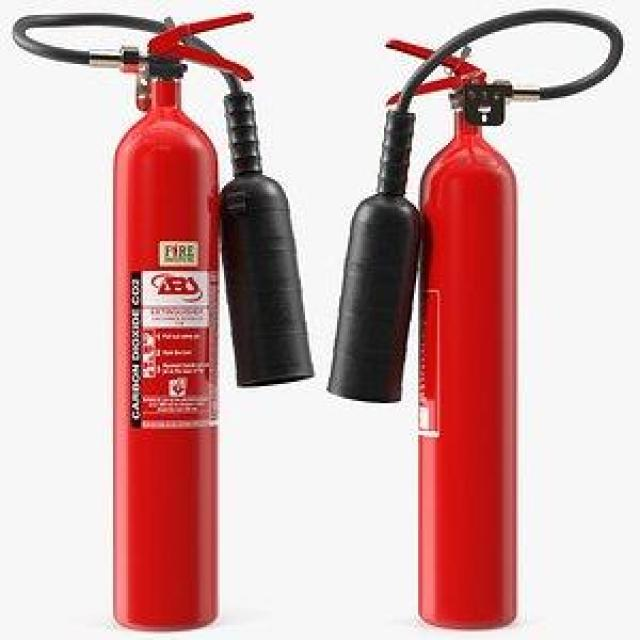fire_extinguisher: (6, 4, 320, 638), (318, 1, 625, 633)
